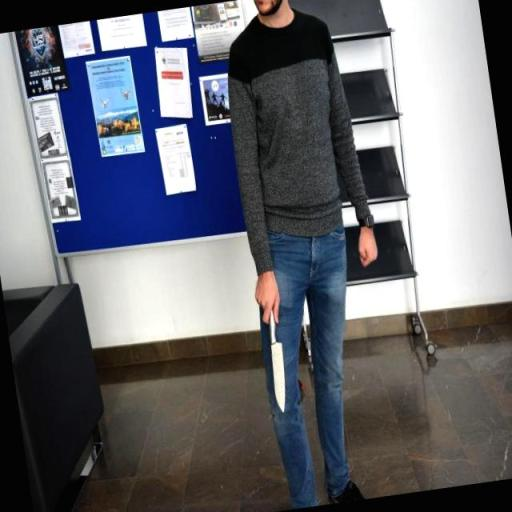knife: (260, 299, 294, 419)
